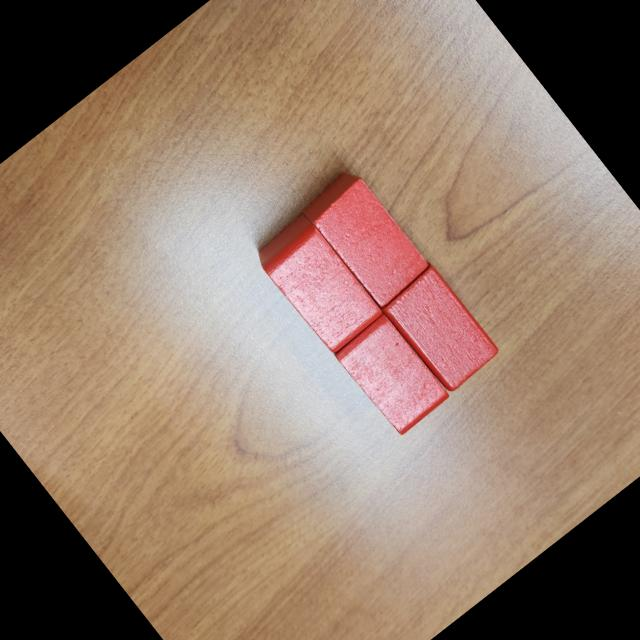red: (295, 164, 434, 314), (250, 212, 386, 358), (374, 258, 504, 397), (332, 310, 453, 438)
